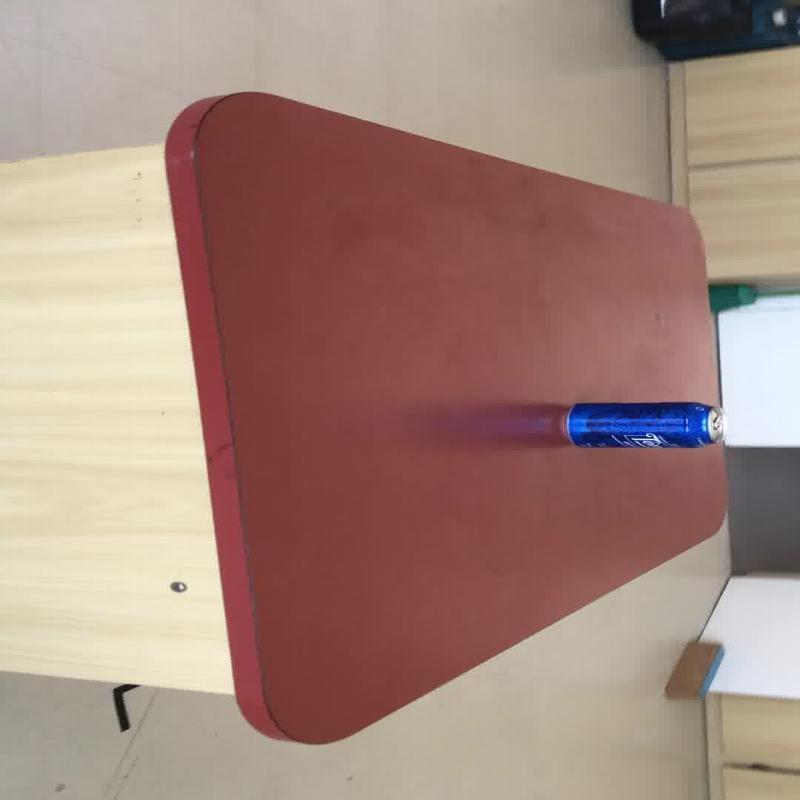tonic: (428, 399, 725, 449), (556, 400, 724, 449)
